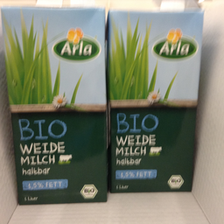milk: (1, 1, 111, 208), (106, 1, 203, 192)
